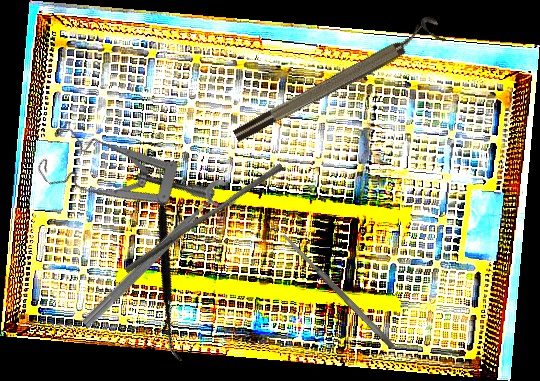Fixation Ring: (226, 13, 447, 146), (77, 175, 242, 341)
Pusher: (123, 157, 285, 280)
Spatula Surgical: (71, 157, 263, 363), (279, 230, 398, 352)
Speculum: (28, 92, 217, 268)
